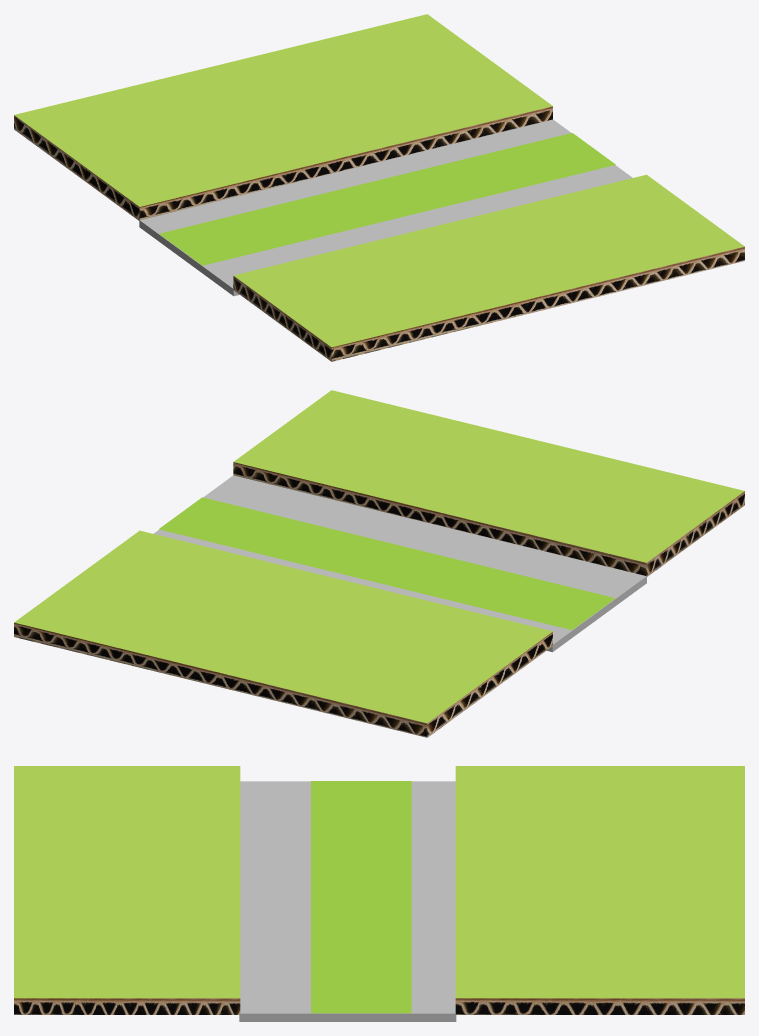
Rendered from groundTile.fbx.
3 renders of one model, top to bottom at view 1: azimuth 30°, elevation 25°; view 2: azimuth 150°, elevation 25°; view 3: azimuth 270°, elevation 25°, orthographic. The views are drawn at different scales.
Visible parts, largest first — view 1: path; view 2: path; view 3: path.
Part boxes in pixels (x1=…): path: x1=14, y1=14, x2=744, y2=361; path: x1=14, y1=390, x2=744, y2=737; path: x1=14, y1=766, x2=744, y2=1021.
Bounding box in the file's own units: 600 × 28.47 × 798.
